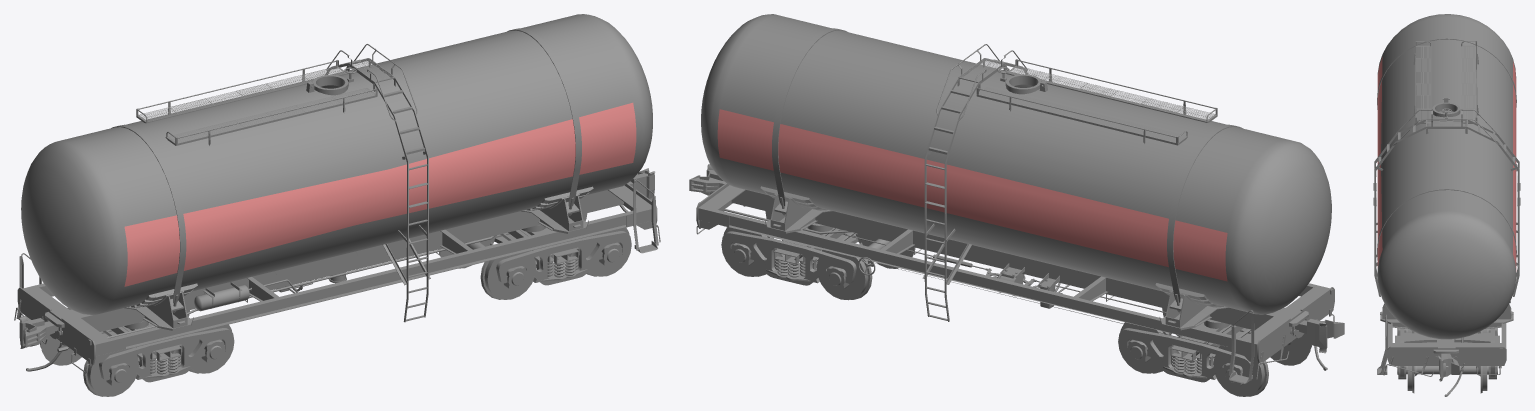
The model's file is SM_Cistern_00fbx.gltf.
3 renders of one model, left to right at view 1: azimuth 30°, elevation 25°; view 2: azimuth 150°, elevation 25°; view 3: azimuth 270°, elevation 25°, orthographic. The views are drawn at different scales.
Parts seen in each view (by area): view 1: SM_Cistern_00fbx; view 2: SM_Cistern_00fbx; view 3: SM_Cistern_00fbx.
Part boxes in pixels (<box>): SM_Cistern_00fbx: <box>14,14,660,396</box>; SM_Cistern_00fbx: <box>689,14,1344,396</box>; SM_Cistern_00fbx: <box>1373,14,1520,396</box>.
Size of the model in its own units: 13.67 by 5.17 by 3.5.
